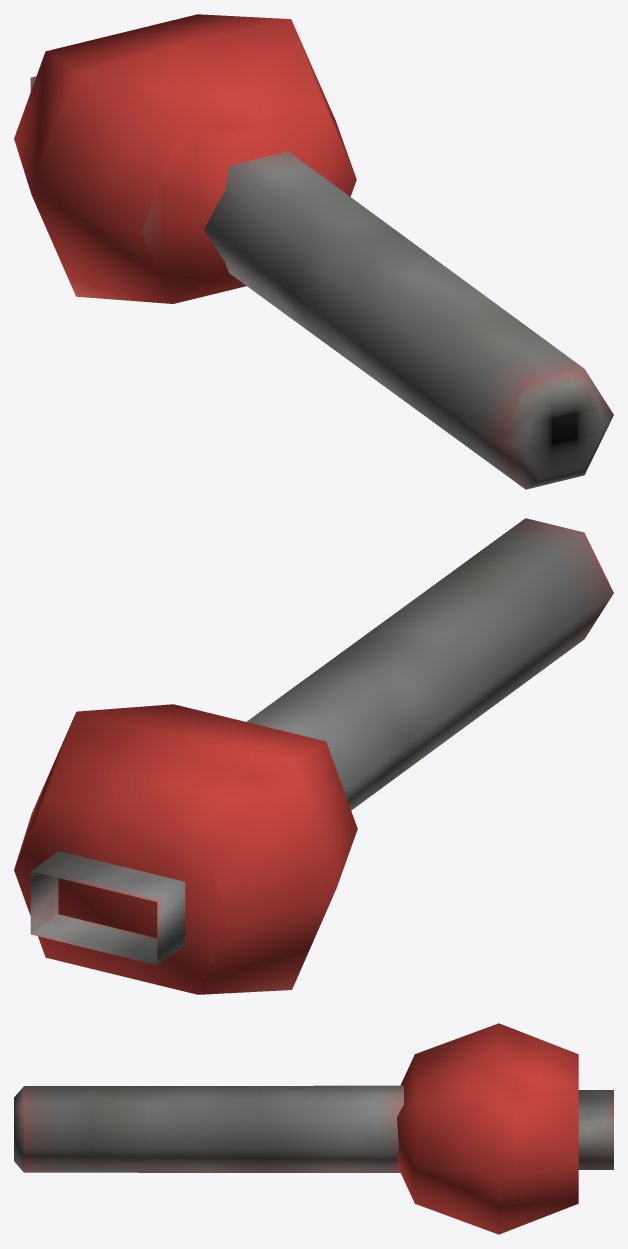
The model's file is Cannon1.FBX.
3 views of the same model, one above another, from view 1: azimuth 30°, elevation 25°; view 2: azimuth 150°, elevation 25°; view 3: azimuth 270°, elevation 25° (orthographic). The views are drawn at different scales.
Parts seen in each view (by area): view 1: Cannon1; view 2: Cannon1; view 3: Cannon1.
Part boxes in pixels (x1,y1,x2,y2): Cannon1: (14,14,613,489); Cannon1: (14,518,613,994); Cannon1: (14,1023,613,1234).
Size of the model in its own units: 10.05 by 7.11 by 26.81.
1 material, 1 textured.
